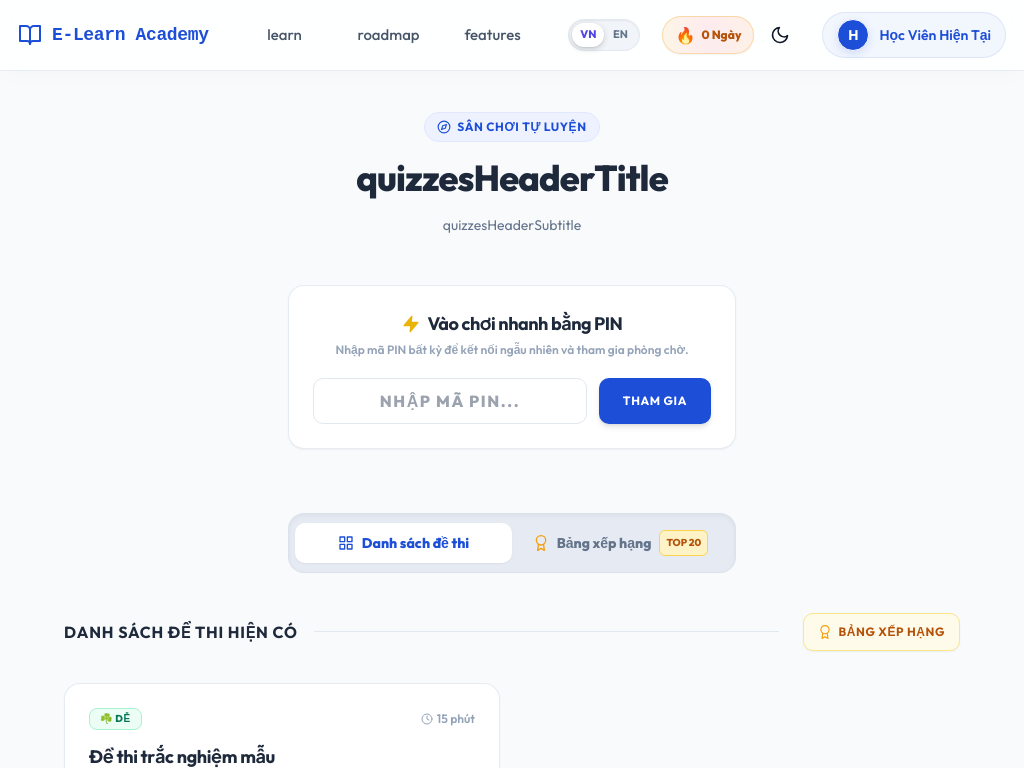
Test case: Global Leaderboard Component & Quizzes Page Integration › QuizzesListPage seamlessly switches between Quizzes and Leaderboard tabs
Expected: the heading "Đề thi trắc nghiệm mẫu" is shown, [89,745,275,767]
Click "Bảng xếp hạng" tab
Click the button "Bảng xếp hạng TOP 20" at x=620, y=543, box [512,520,729,566]
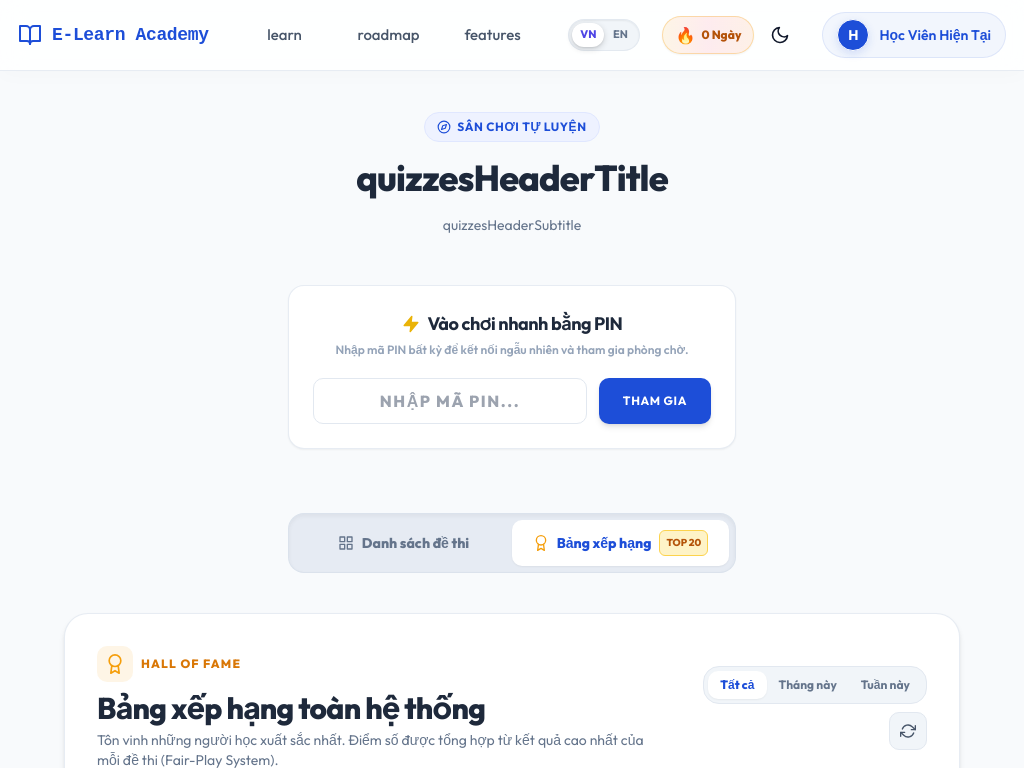
Click "Danh sách đề thi" tab to switch back
Click the button "Danh sách đề thi" at x=404, y=543, box [295,523,512,563]
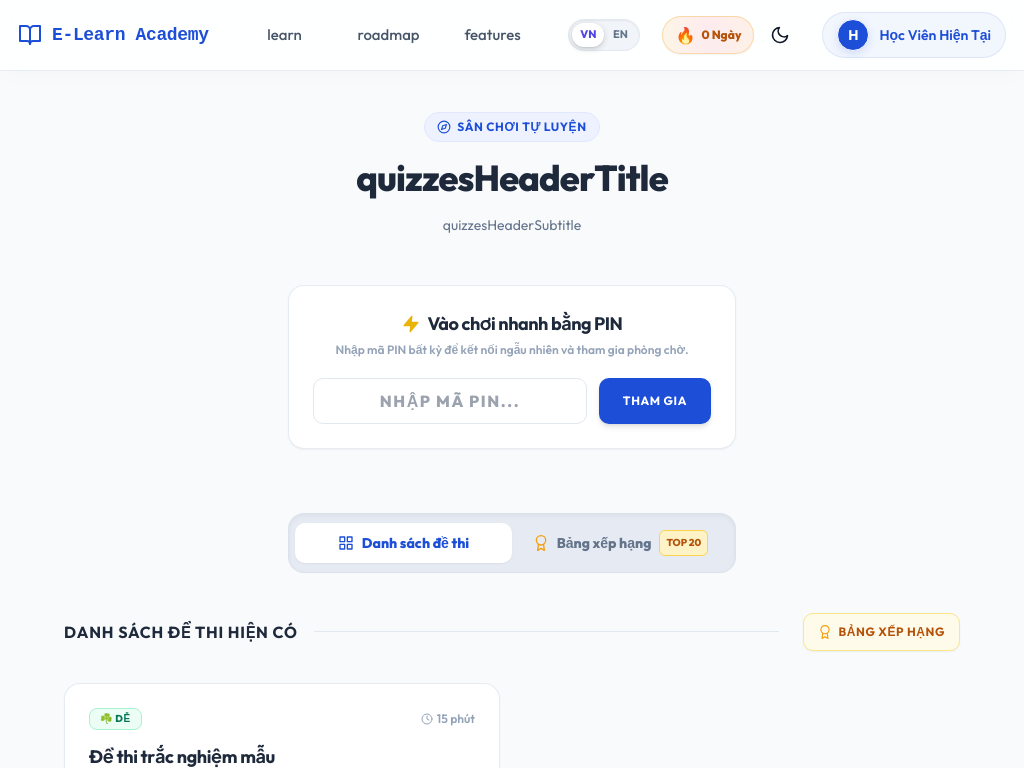
Now the heading "Đề thi trắc nghiệm mẫu" is shown, box [89,745,275,767]
